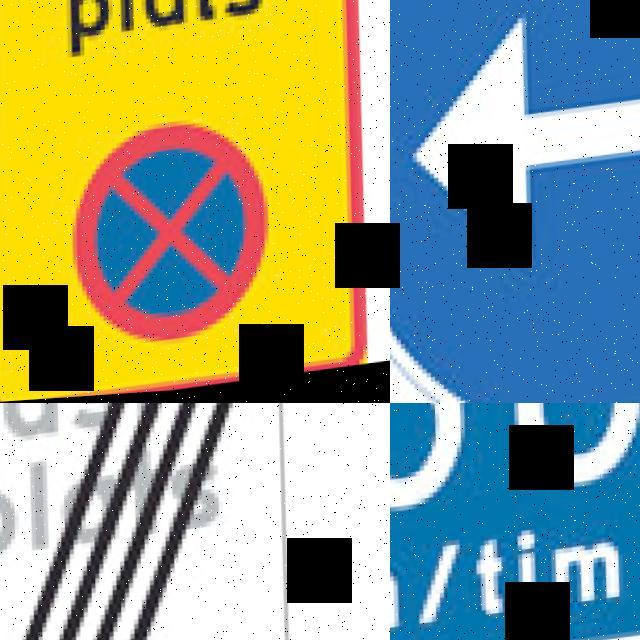102: (390, 403, 640, 640)
115: (0, 403, 324, 640)
177: (0, 0, 390, 403)
Direction to be followed: (390, 0, 640, 403)
